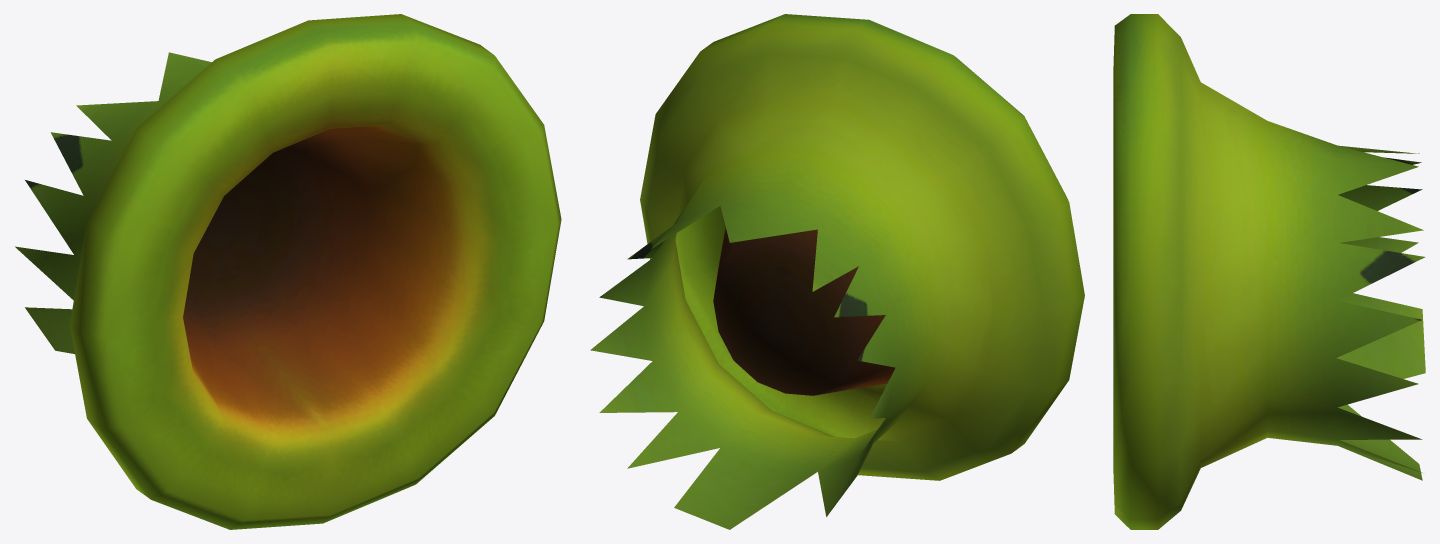
File: gatlingpea_boca.obj
The picture shows the model from 3 angles, left to right: view 1: azimuth 30°, elevation 25°; view 2: azimuth 150°, elevation 25°; view 3: azimuth 270°, elevation 25°; orthographic projection. The views are drawn at different scales.
Parts seen in each view (by area): view 1: gatlingpea_boca; view 2: gatlingpea_boca; view 3: gatlingpea_boca.
Part boxes in pixels (<box>): gatlingpea_boca: <box>15,14,561,529</box>; gatlingpea_boca: <box>590,14,1084,529</box>; gatlingpea_boca: <box>1113,14,1425,529</box>.
Size of the model in its own units: 0.3896 by 0.3843 by 0.236.
